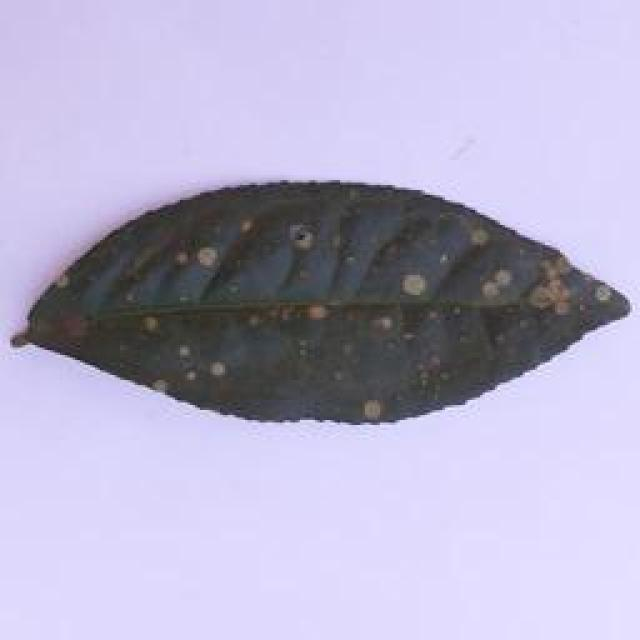Algal Leaf Spot: (6, 175, 628, 443)
